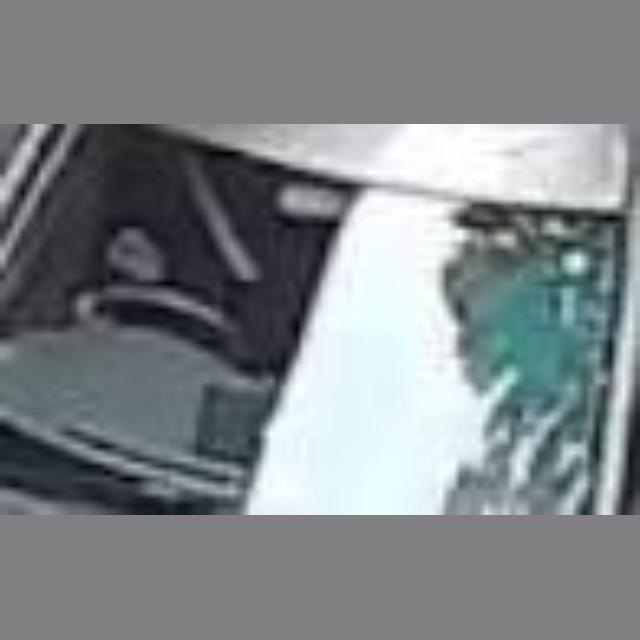pakai: (104, 176, 320, 340)
